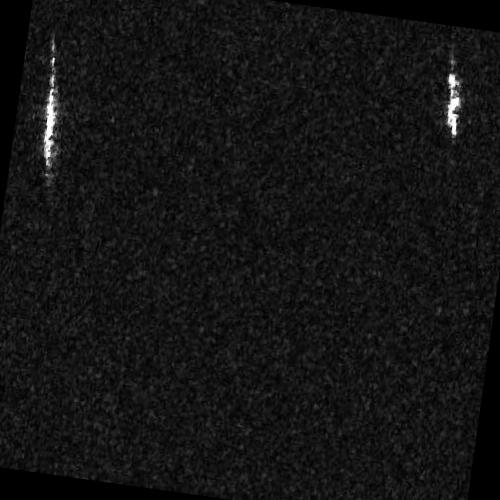ship: (42, 55, 60, 172), (446, 71, 463, 143)
